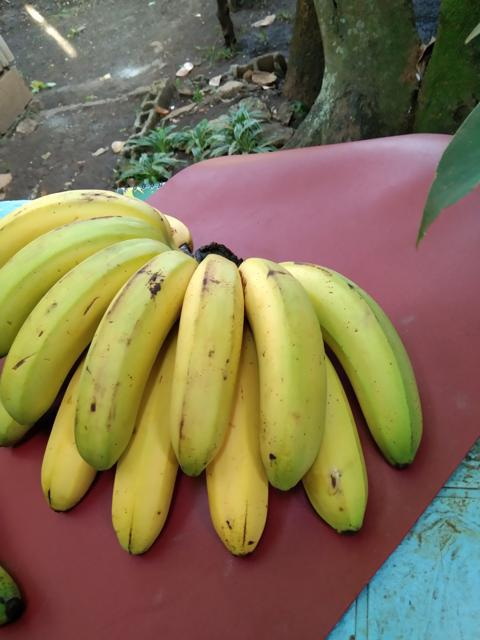freshripe: (323, 252, 425, 457), (237, 256, 323, 479), (106, 403, 175, 565)
ripe: (65, 255, 186, 470), (161, 250, 248, 478)
